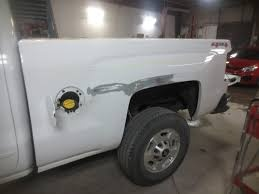Scratch: (85, 72, 181, 100)
